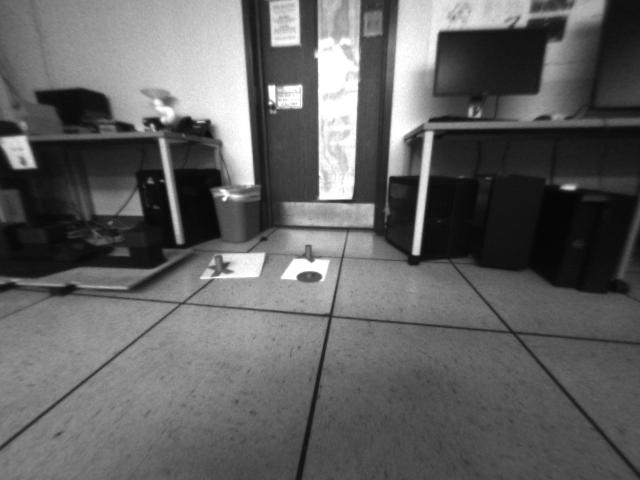X: (208, 255, 233, 276), (296, 242, 323, 261)
